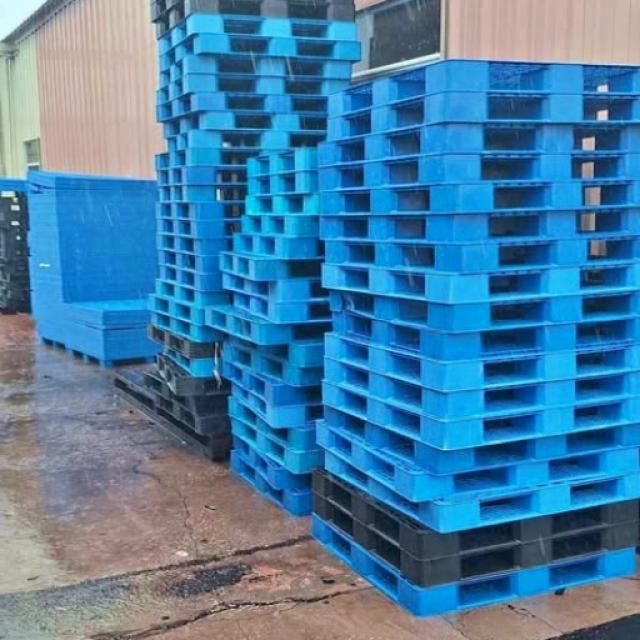non-igps: (303, 506, 640, 625), (306, 484, 640, 594), (305, 460, 640, 569), (319, 438, 640, 542), (307, 412, 640, 511), (316, 398, 640, 484), (316, 375, 640, 458), (317, 352, 640, 429), (318, 325, 640, 402), (324, 56, 640, 123), (327, 305, 640, 371), (314, 252, 640, 312), (322, 86, 640, 146), (314, 115, 640, 172), (324, 282, 640, 338), (320, 228, 640, 281), (314, 145, 640, 197), (315, 199, 640, 251), (313, 173, 640, 222), (108, 360, 238, 469), (154, 7, 362, 60), (154, 28, 364, 76), (151, 0, 359, 45), (156, 51, 355, 94), (153, 70, 355, 111), (152, 88, 333, 128), (224, 391, 328, 459), (225, 446, 318, 520), (229, 412, 328, 480), (158, 105, 332, 142), (219, 357, 328, 412), (220, 338, 328, 392), (230, 430, 320, 494), (142, 360, 236, 421), (165, 124, 331, 158), (228, 378, 326, 434), (201, 298, 296, 352), (219, 266, 336, 309), (224, 326, 328, 373), (150, 347, 236, 401), (152, 144, 300, 174), (230, 288, 337, 328), (228, 229, 328, 266), (145, 318, 226, 362), (148, 306, 231, 348), (242, 142, 322, 184), (156, 258, 237, 298), (237, 209, 329, 244), (154, 161, 251, 192), (217, 248, 296, 286), (153, 196, 250, 226), (241, 187, 324, 222), (154, 180, 252, 209), (144, 287, 210, 330), (244, 166, 322, 202), (154, 227, 238, 260), (154, 242, 226, 280), (160, 341, 224, 383), (153, 214, 245, 243)
